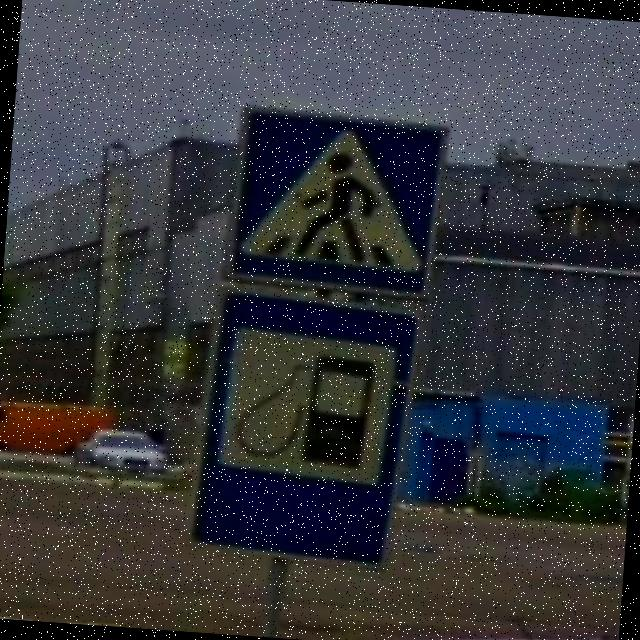Przejscie dla pieszych: (220, 102, 452, 302)
